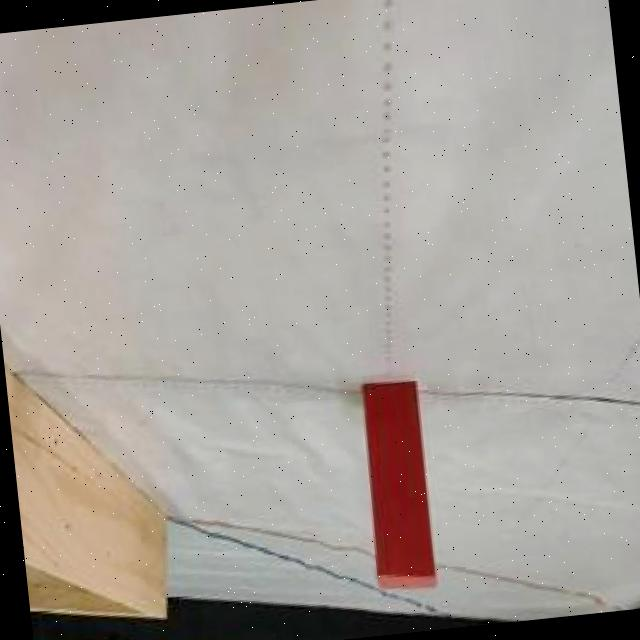redbox: (353, 376, 442, 598)
